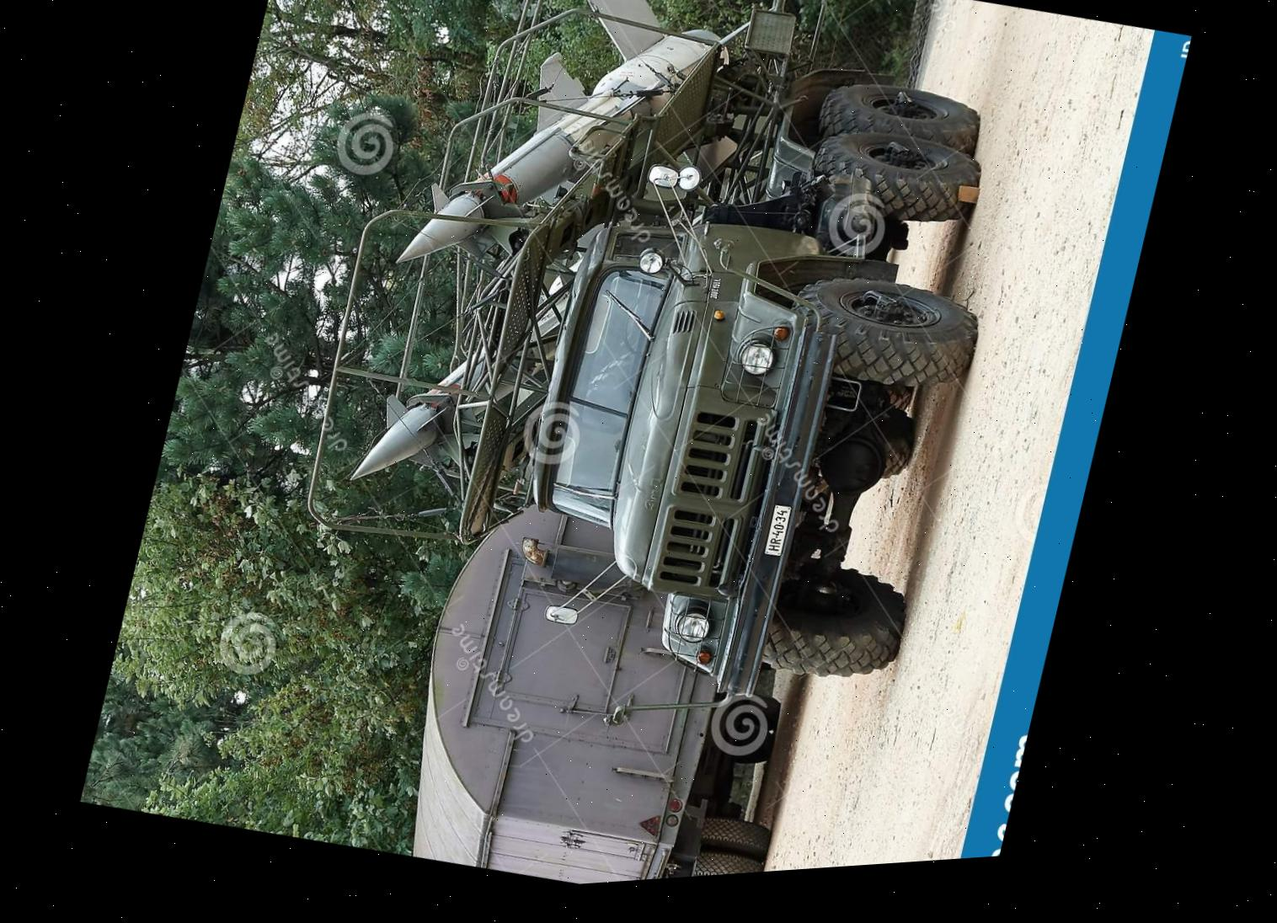rszo: (264, 0, 1080, 742)
